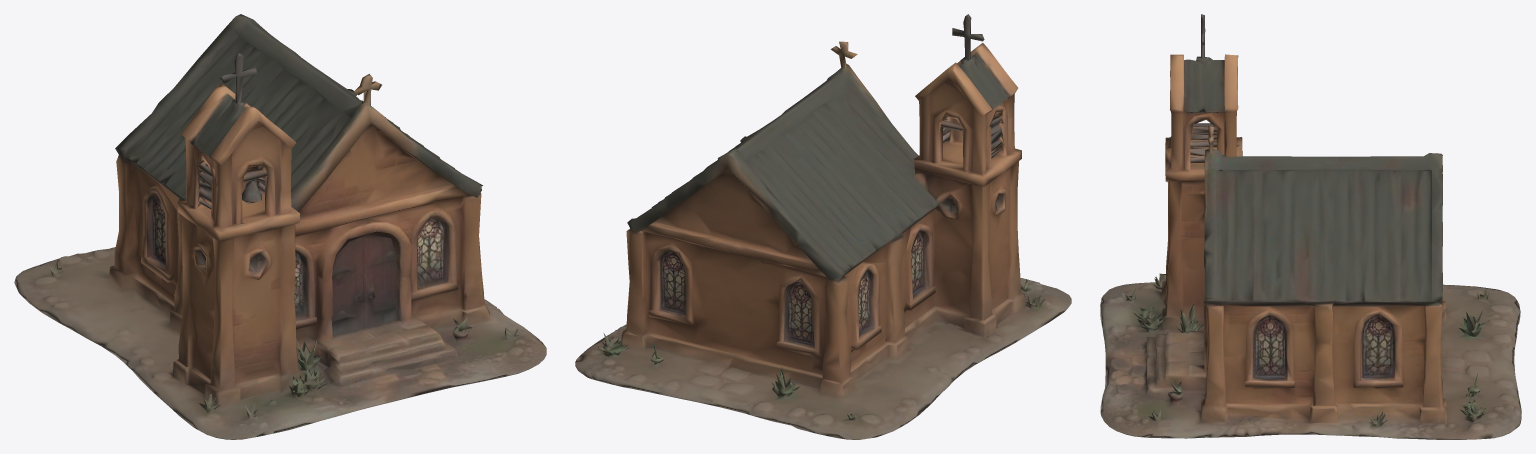
The model's file is church_main.glb.
3 renders of one model, left to right at view 1: azimuth 30°, elevation 25°; view 2: azimuth 150°, elevation 25°; view 3: azimuth 270°, elevation 25°, orthographic. The views are drawn at different scales.
Parts seen in each view (by area): view 1: tripo_node_25d859b5-47a9-4485-b08c-b792a5f3d0b8; view 2: tripo_node_25d859b5-47a9-4485-b08c-b792a5f3d0b8; view 3: tripo_node_25d859b5-47a9-4485-b08c-b792a5f3d0b8.
Part boxes in pixels (x1,y1,x2,y2): tripo_node_25d859b5-47a9-4485-b08c-b792a5f3d0b8: [14, 14, 546, 439]; tripo_node_25d859b5-47a9-4485-b08c-b792a5f3d0b8: [575, 14, 1071, 439]; tripo_node_25d859b5-47a9-4485-b08c-b792a5f3d0b8: [1100, 14, 1521, 439].
Size of the model in its own units: 0.8791 by 0.7938 by 1.
Materials: 1 (1 with a texture image).
